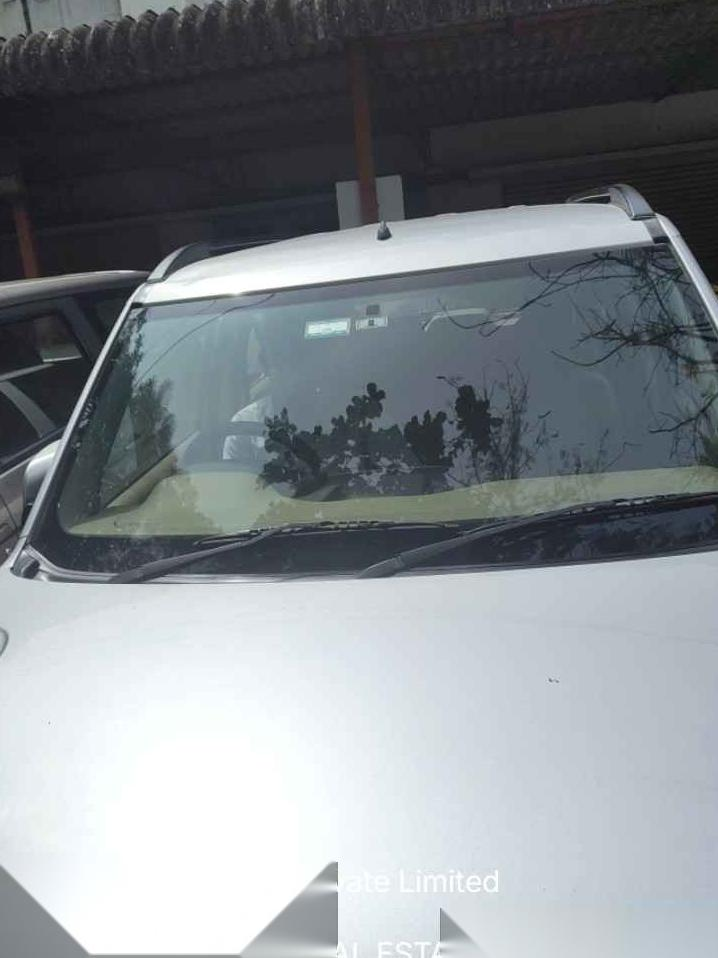FastTag: (289, 305, 369, 356)
